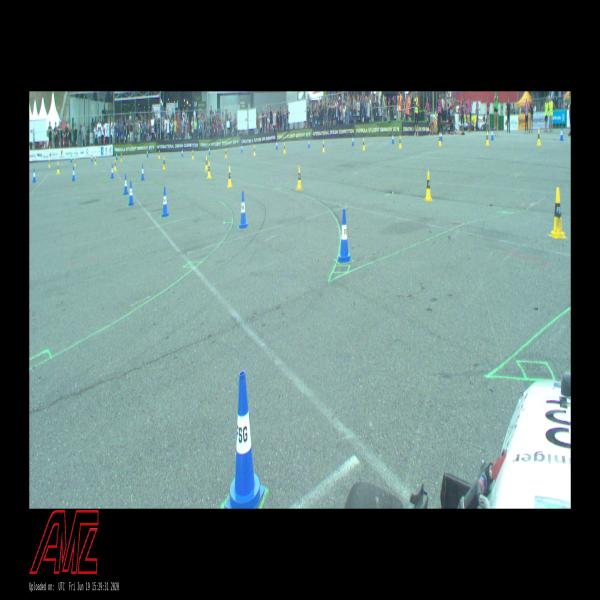blue_cone: (226, 371, 265, 508), (337, 209, 352, 263), (240, 191, 248, 228), (162, 188, 169, 216), (129, 182, 134, 205), (124, 175, 128, 194), (559, 127, 564, 140), (140, 164, 144, 180), (72, 167, 75, 181), (111, 164, 114, 178), (33, 169, 36, 182), (490, 127, 493, 140), (440, 130, 442, 141), (352, 136, 354, 146), (308, 138, 310, 148), (392, 134, 394, 144), (276, 140, 278, 149), (241, 143, 243, 152), (91, 154, 93, 162), (70, 154, 72, 162), (146, 150, 148, 158), (116, 152, 118, 160), (209, 146, 210, 155), (182, 149, 183, 156)
yellow_cone: (549, 188, 567, 238), (424, 171, 432, 200), (297, 166, 302, 190), (228, 166, 232, 187), (537, 128, 541, 146), (208, 161, 212, 178), (486, 130, 490, 146), (162, 156, 166, 169), (56, 162, 60, 173), (205, 156, 208, 170), (398, 135, 401, 148), (362, 138, 365, 150), (438, 133, 441, 145), (322, 141, 325, 152), (114, 159, 117, 170), (283, 143, 286, 153), (253, 146, 256, 156), (94, 156, 97, 165), (48, 159, 51, 168), (120, 153, 123, 162), (225, 148, 227, 158), (192, 150, 194, 158), (158, 150, 160, 158), (74, 158, 76, 166)
